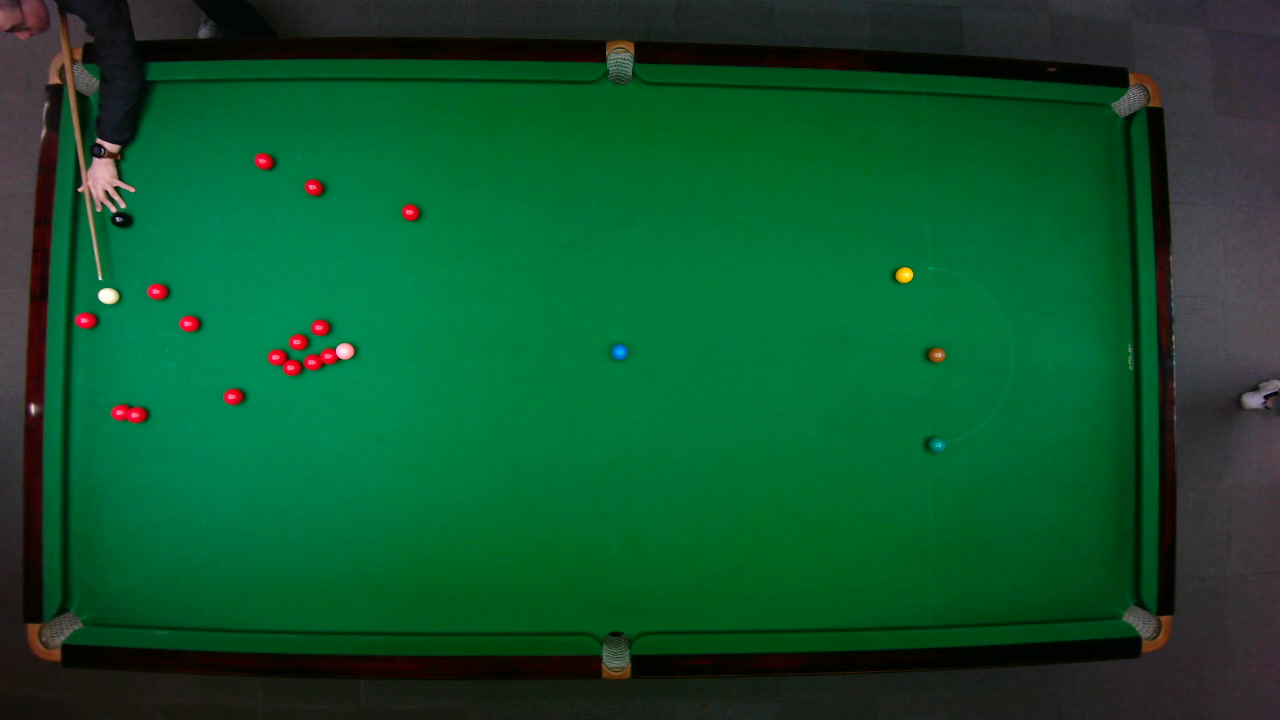bag: (25, 609, 83, 662), (46, 46, 101, 96), (1119, 603, 1172, 652), (1108, 71, 1161, 118), (600, 629, 630, 680), (605, 38, 633, 85)
black: (109, 210, 130, 228)
blue: (610, 342, 628, 360)
brown: (926, 346, 945, 362)
cue: (56, 0, 104, 281)
green: (926, 435, 946, 452)
pink: (334, 341, 355, 360)
red: (123, 404, 148, 423), (222, 386, 244, 405), (109, 402, 131, 421), (145, 282, 168, 300), (177, 314, 200, 332), (73, 311, 97, 328), (253, 151, 274, 170), (303, 177, 324, 196), (302, 352, 324, 370), (400, 202, 420, 221), (287, 332, 308, 350), (281, 358, 302, 376), (266, 348, 287, 365), (309, 318, 330, 335), (319, 346, 337, 365)
white: (96, 285, 120, 304)
yellow: (893, 265, 914, 283)
zone: (926, 265, 1013, 445)
